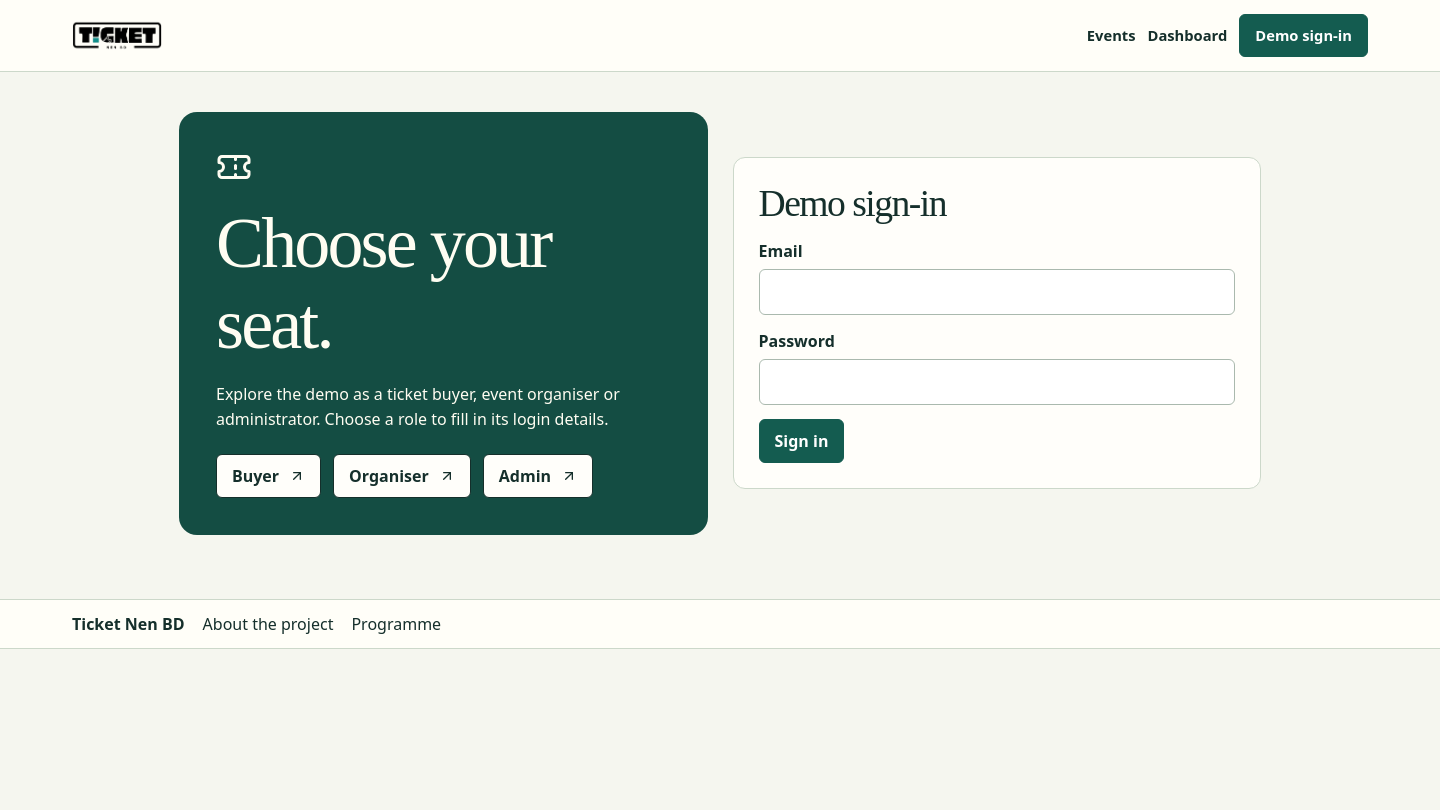
Scenario: organiser login prefills the published demo credentials and opens the studio
Step 1. Click the button "Organiser" → (402, 476), box [333, 454, 471, 498]
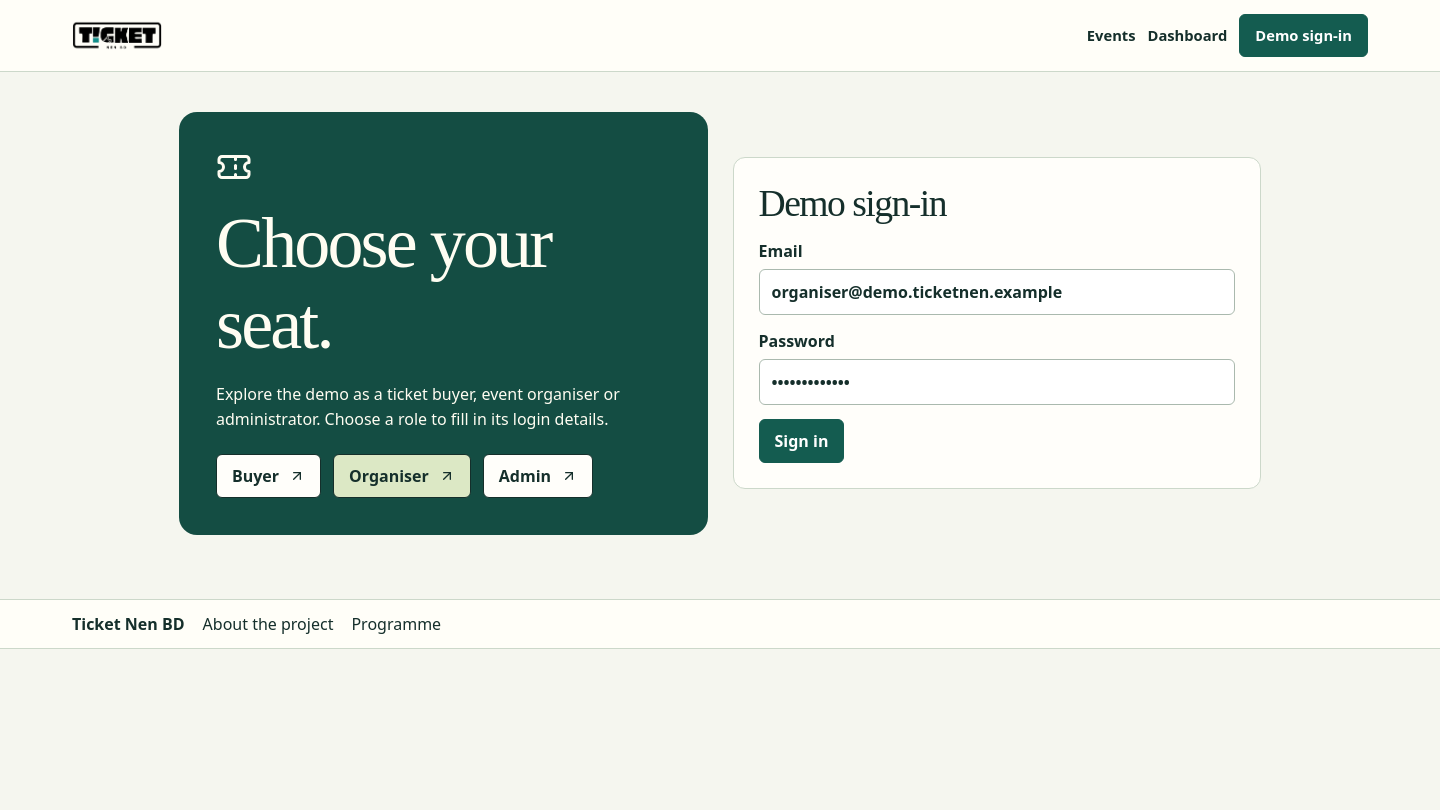
Expected: the field labelled "Email" holds "organiser@demo.ticketnen.example", [758, 270, 1235, 316]
Expected: the password field labelled "Password" holds "HostEvents27!", [758, 360, 1235, 406]
Step 2. Click the button "Sign in" → (801, 442), box [758, 420, 844, 464]
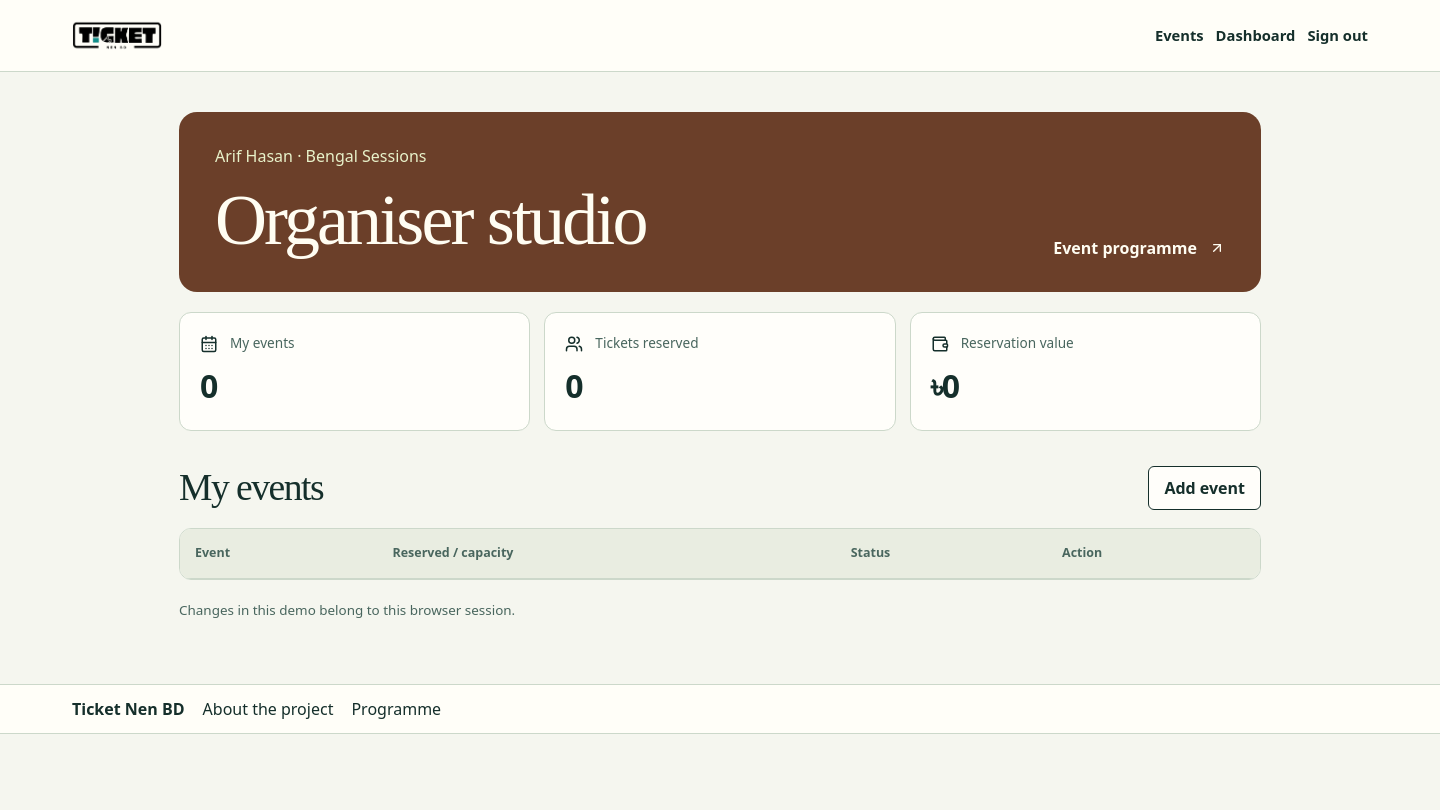
Expected: the heading "Organiser studio" is shown, [215, 180, 646, 260]
Expected: the button "Add event" is shown, [1148, 466, 1261, 510]
